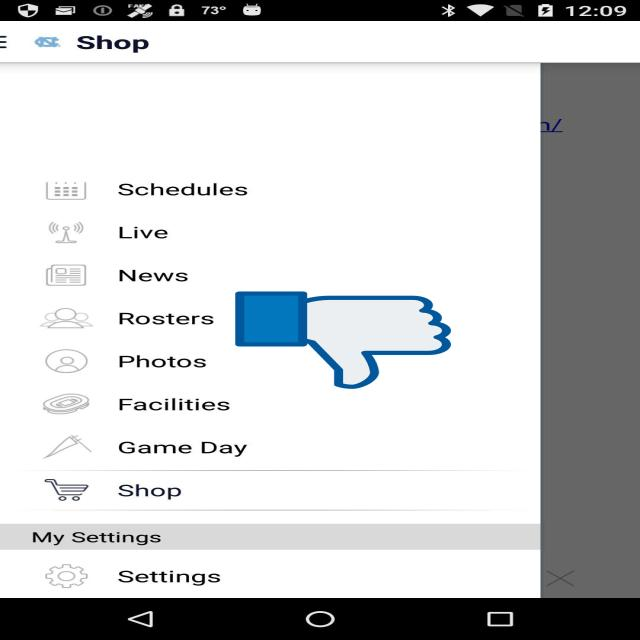obstruction: (235, 289, 451, 391)
